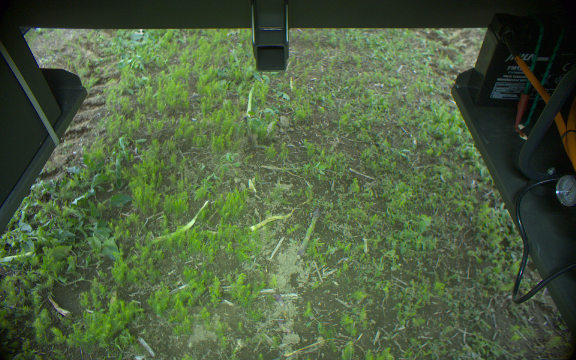aspa: (297, 207, 324, 258)
